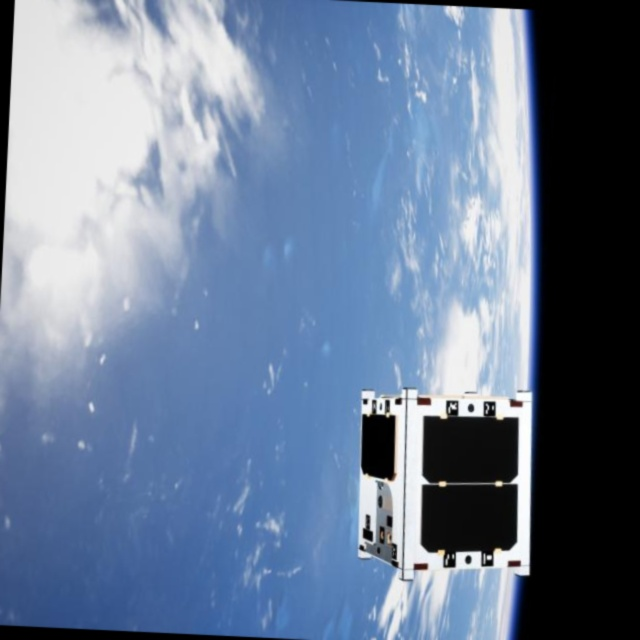satellite: (350, 372, 541, 590)
